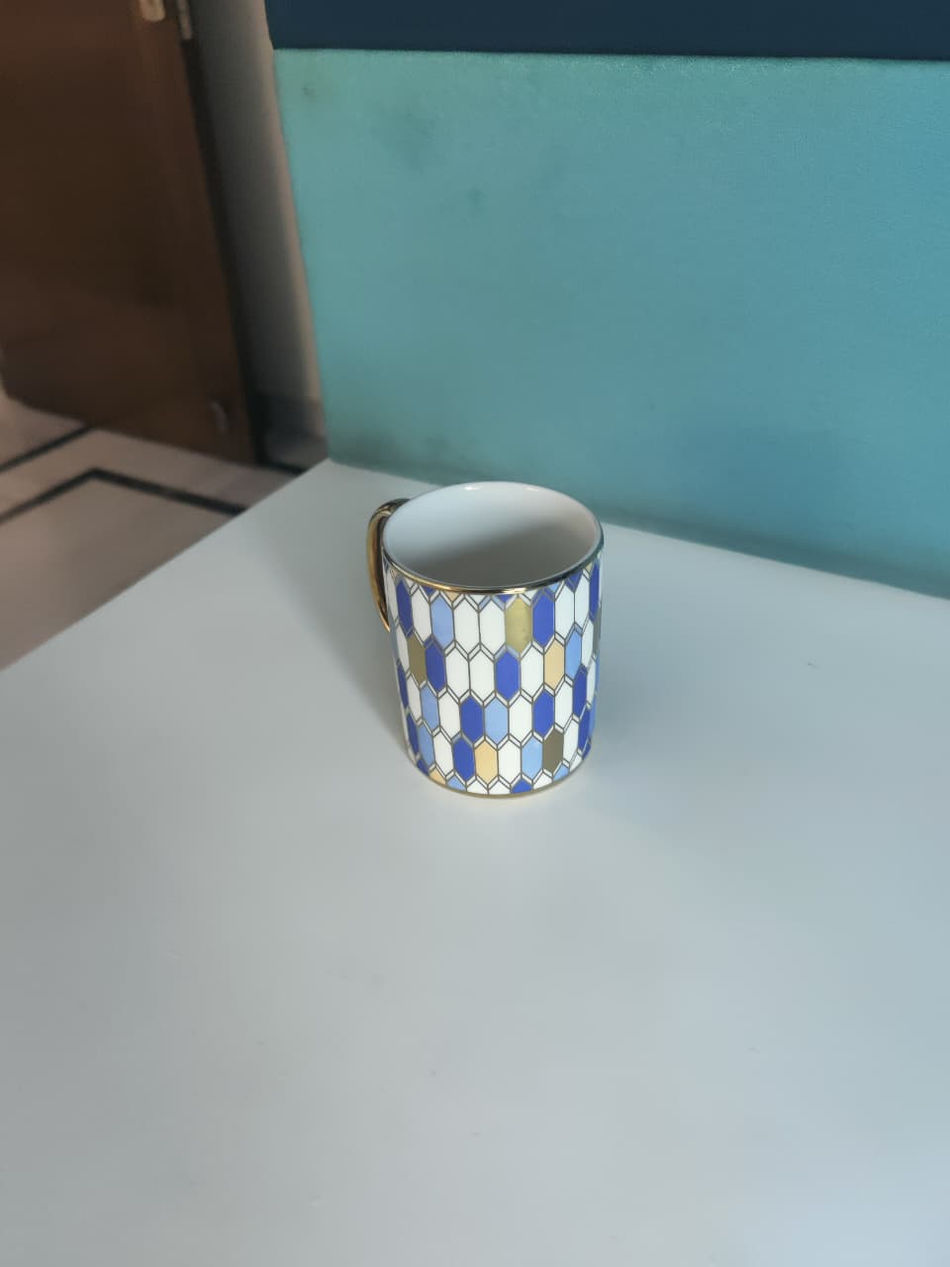cup: (365, 478, 604, 798)
